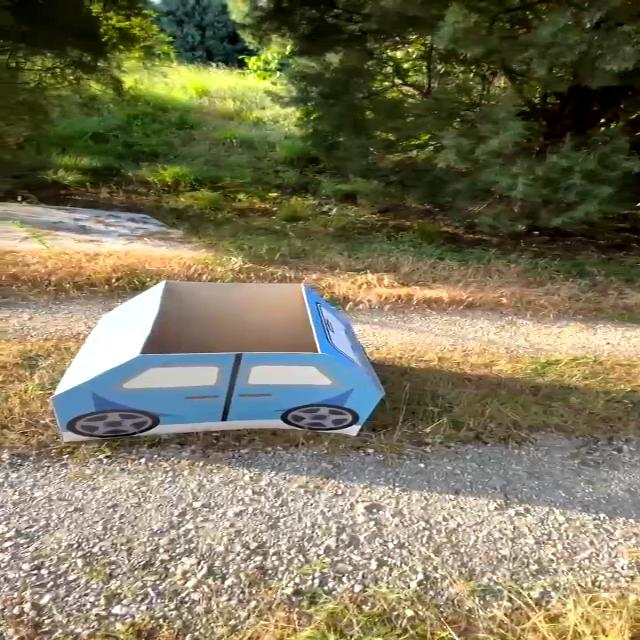blue_car: (17, 243, 443, 486)
